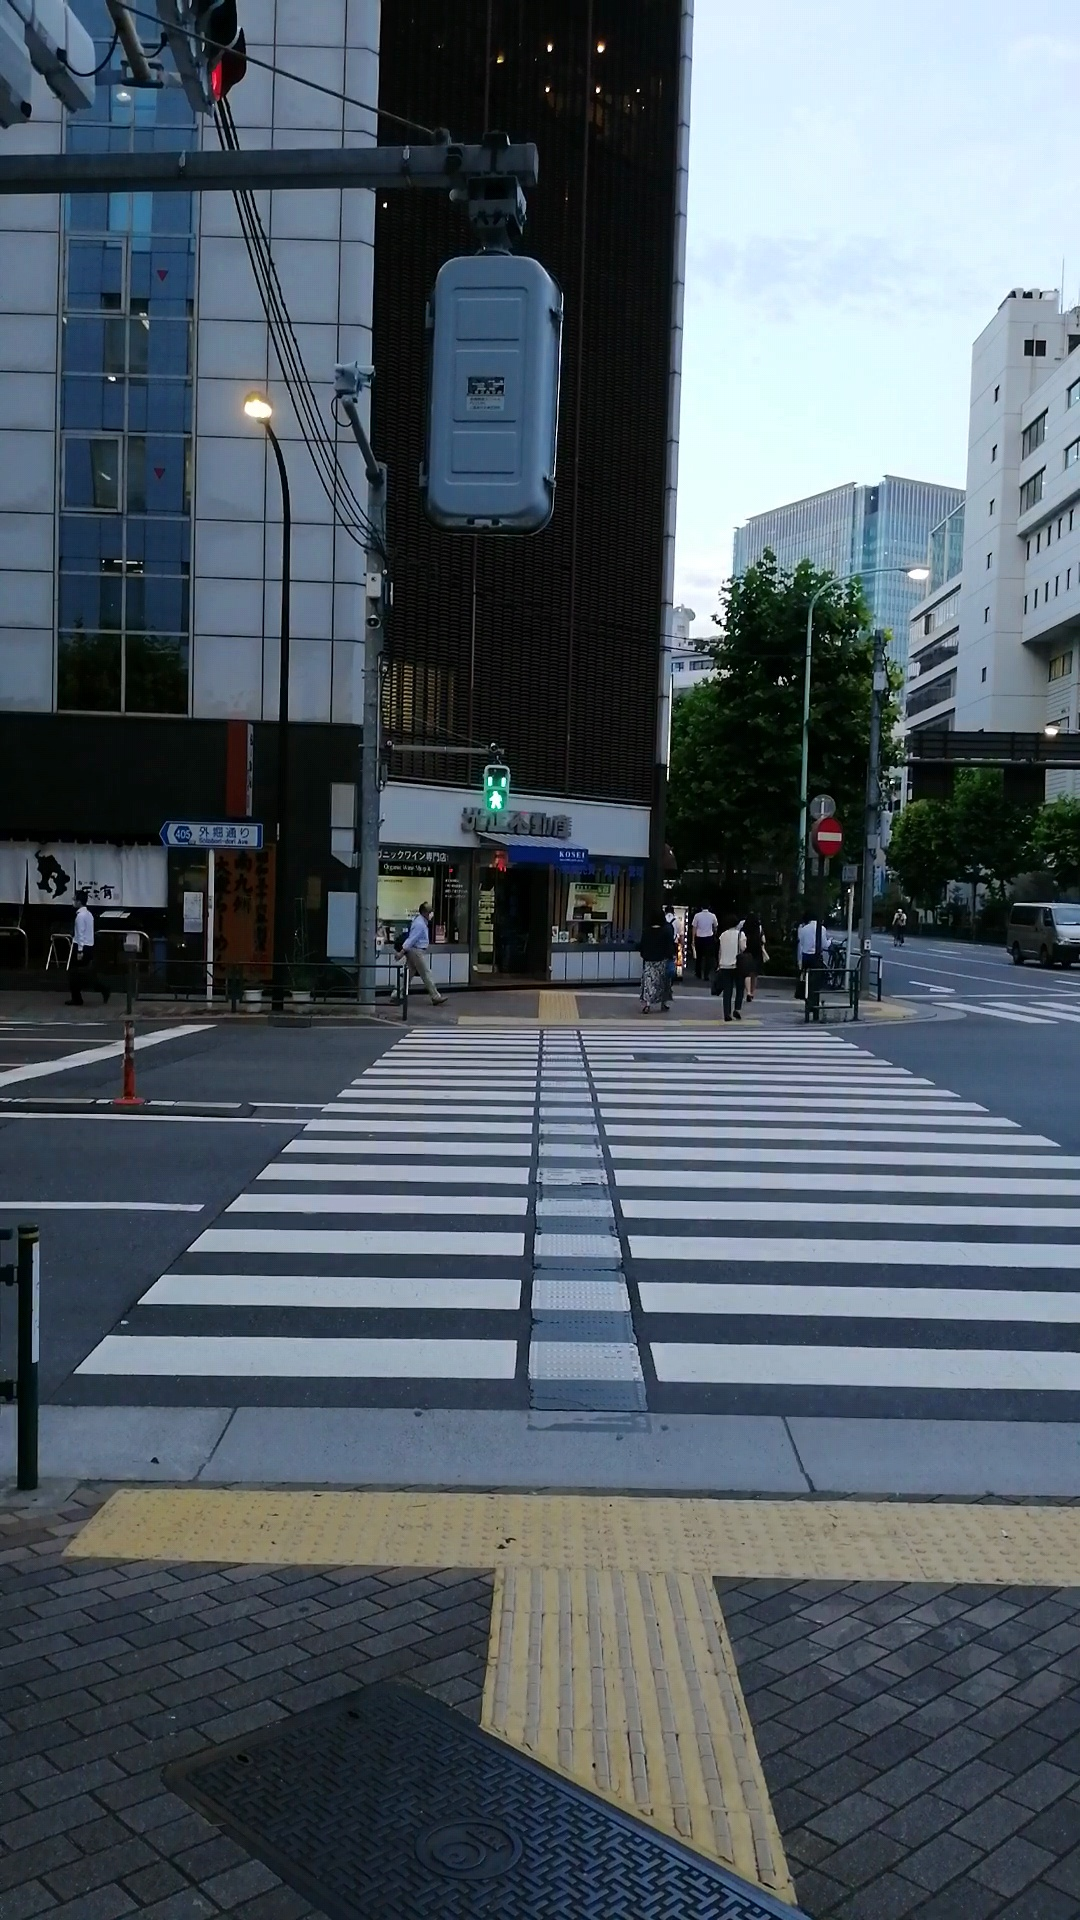green: (483, 762, 510, 814)
